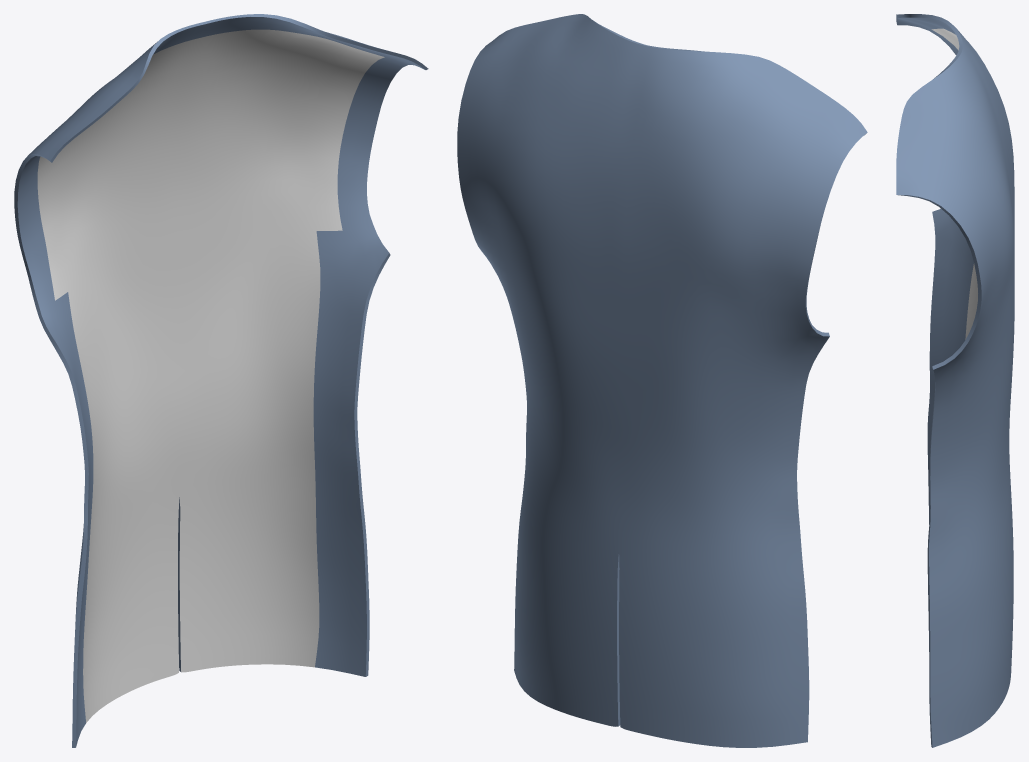
The model's file is SM_CarlosSA_Jacket_BackVent_SingleVent.fbx.
3 renders of one model, left to right at view 1: azimuth 30°, elevation 25°; view 2: azimuth 150°, elevation 25°; view 3: azimuth 270°, elevation 25°, orthographic. The views are drawn at different scales.
Visible parts, largest first — view 1: SM_CarlosSA_Jacket_BackVent_SingleVent; view 2: SM_CarlosSA_Jacket_BackVent_SingleVent; view 3: SM_CarlosSA_Jacket_BackVent_SingleVent.
Part boxes in pixels (x1,y1,x2,y2): SM_CarlosSA_Jacket_BackVent_SingleVent: (14, 14, 428, 747); SM_CarlosSA_Jacket_BackVent_SingleVent: (457, 14, 867, 747); SM_CarlosSA_Jacket_BackVent_SingleVent: (896, 14, 1014, 747).
Bounding box in the file's own units: 0.4349 × 0.7451 × 0.1259.
